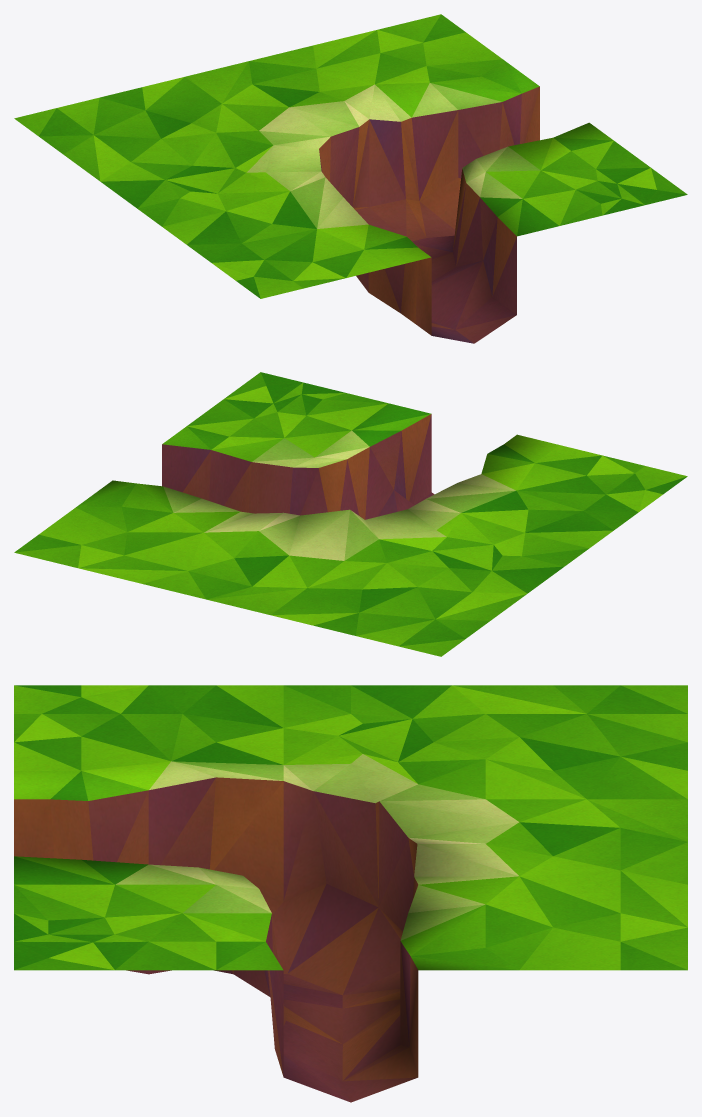
The model's file is Terrain-part-07.fbx.
3 views of the same model, one above another, from view 1: azimuth 30°, elevation 25°; view 2: azimuth 150°, elevation 25°; view 3: azimuth 270°, elevation 25° (orthographic). The views are drawn at different scales.
Visible parts, largest first — view 1: Terrain-part-07; view 2: Terrain-part-07; view 3: Terrain-part-07.
Boxes of the visible parts, x1,y1,x2,y2 form: Terrain-part-07: [14, 14, 687, 343]; Terrain-part-07: [14, 372, 687, 656]; Terrain-part-07: [14, 685, 687, 1102].
Bounding box in the file's own units: 6 × 1.65 × 6.
